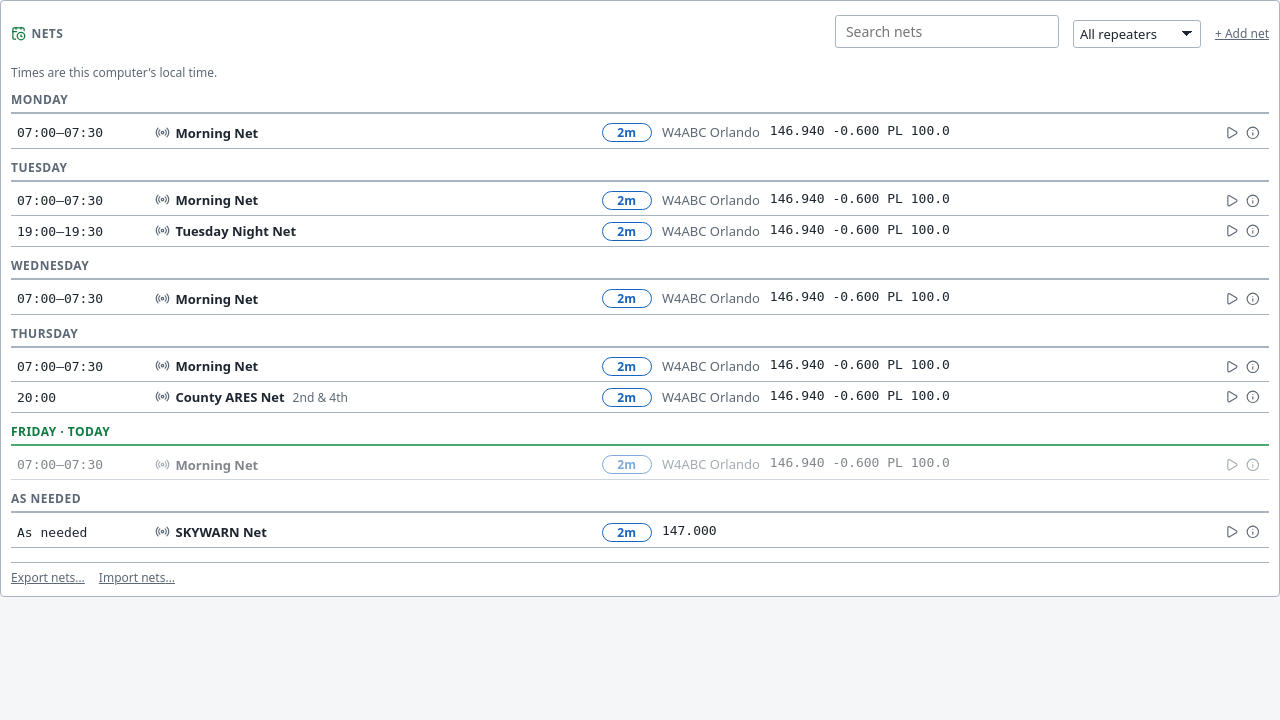
Test: NetsTab › searches and filters by repeater (NETL-022)
The width and height of the screenshot is (1280, 720).
Type "147.000" into the search field labelled "Search nets" at (947, 32), box [835,15,1059,48]
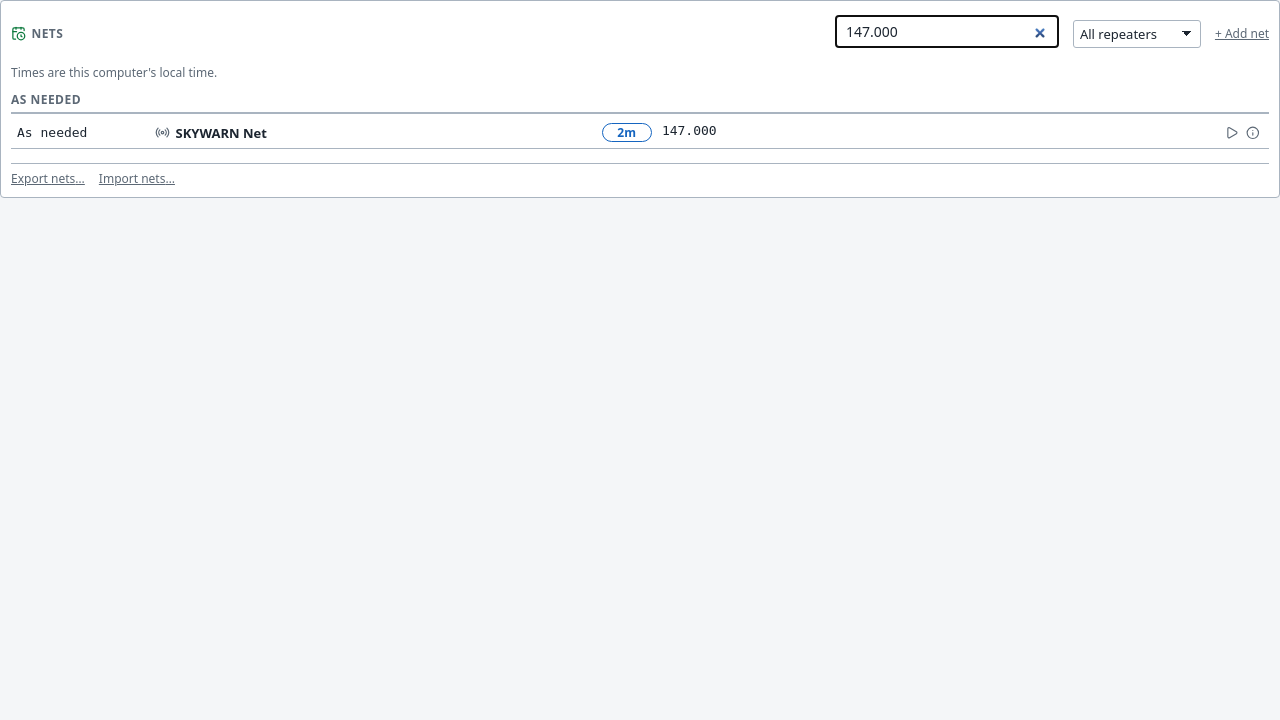
Expected: the text "SKYWARN Net" is shown, [154,124,267,142]
Expected: the text "Tuesday Night Net" is gone
Clear the search field named "Search nets" at (947, 32), box [835,15,1059,48]
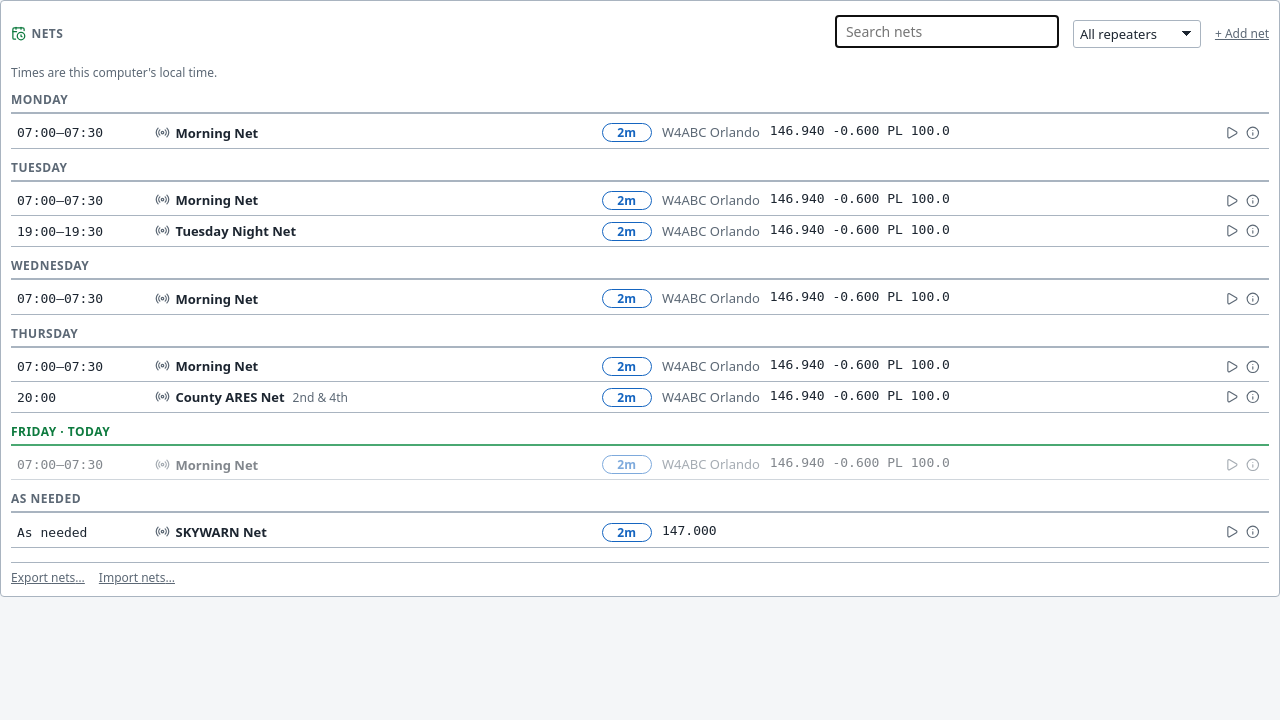
Select "W4ABC Orlando" in the dropdown named "Show nets on" at (1137, 34), box [1073,20,1201,48]
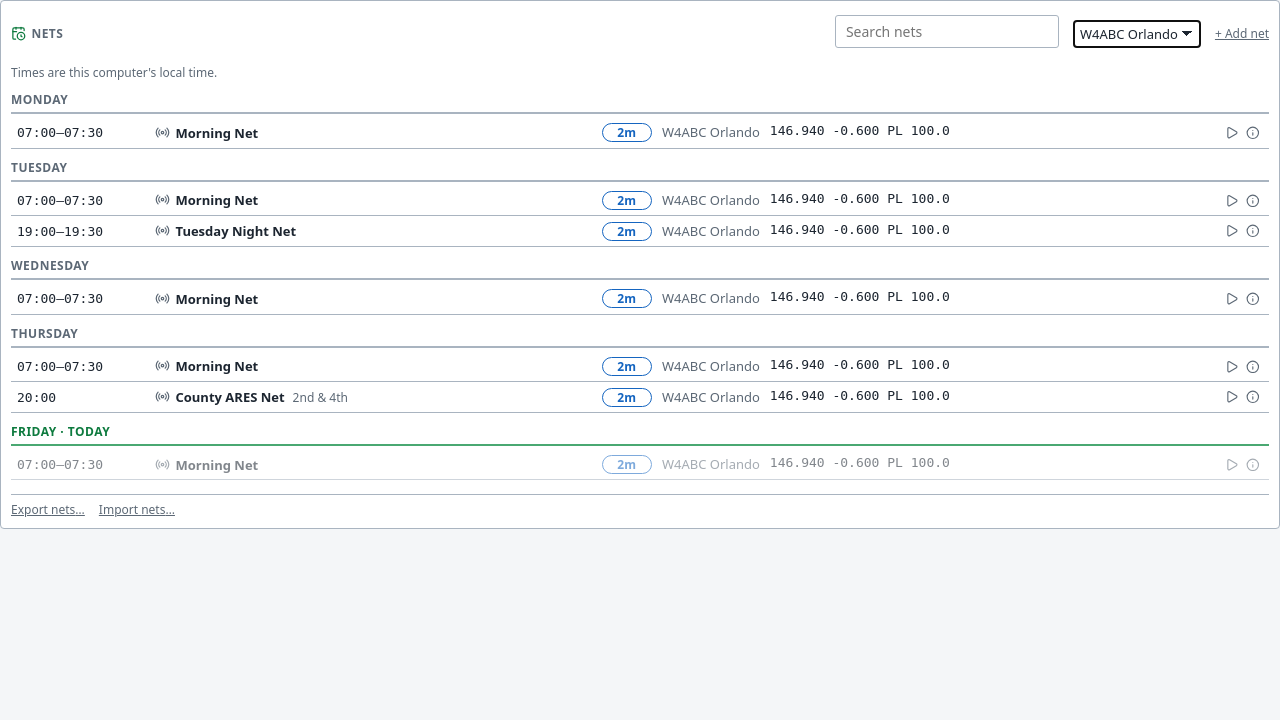
Expected: the text "County ARES Net" is shown, [176,388,285,406]
Expected: the text "SKYWARN Net" is gone
